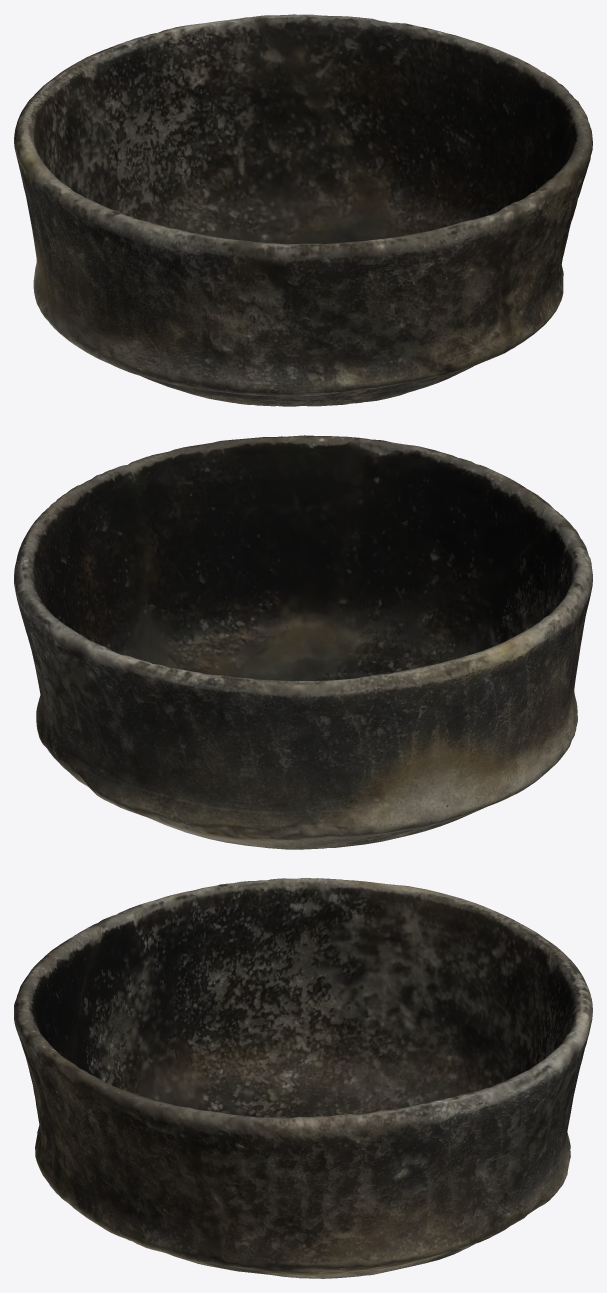
The picture shows the model from 3 angles, top to bottom: view 1: azimuth 30°, elevation 25°; view 2: azimuth 150°, elevation 25°; view 3: azimuth 270°, elevation 25°; orthographic projection. The views are drawn at different scales.
Visible parts, largest first — view 1: Mesh_0.030; view 2: Mesh_0.030; view 3: Mesh_0.030.
Part boxes in pixels (x1,y1,x2,y2): Mesh_0.030: (14,14,592,406); Mesh_0.030: (14,435,592,849); Mesh_0.030: (14,878,592,1278).
Bounding box in the file's own units: 0.2119 × 0.0952 × 0.2121.
Materials: 1 (1 with a texture image).
